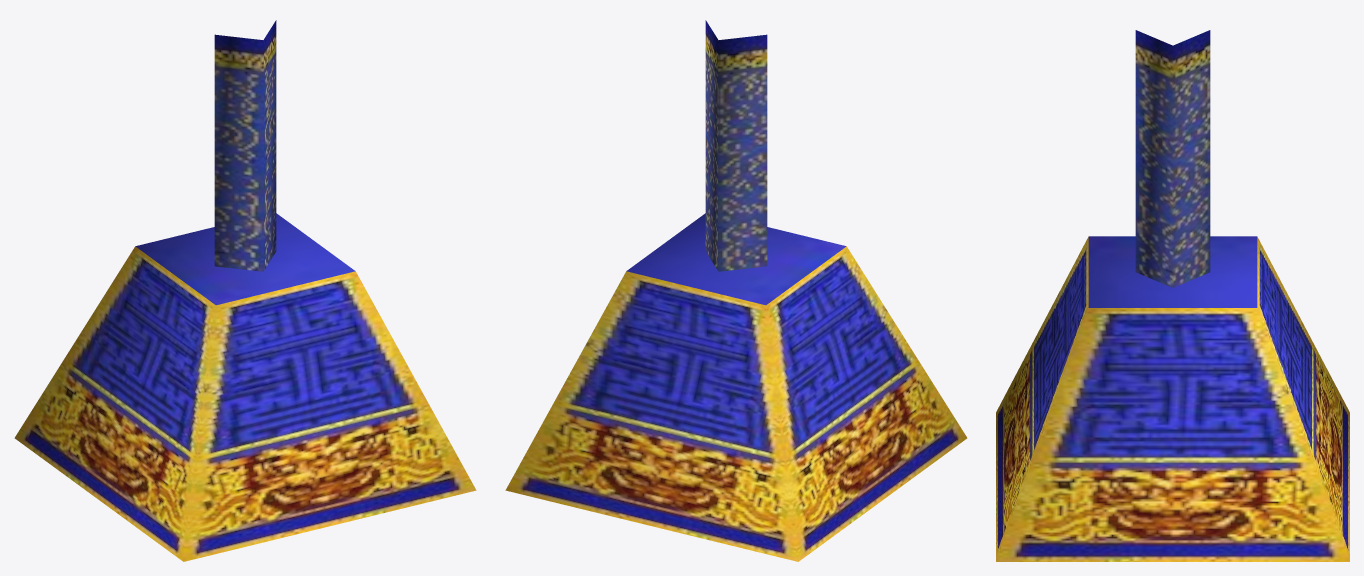
Rendered from flagpole_blue.glb.
3 views of the same model, side by side, from view 1: azimuth 30°, elevation 25°; view 2: azimuth 150°, elevation 25°; view 3: azimuth 270°, elevation 25° (orthographic). The views are drawn at different scales.
Visible parts, largest first — view 1: res\npc\npc\flagpole_blue.bsr; view 2: res\npc\npc\flagpole_blue.bsr; view 3: res\npc\npc\flagpole_blue.bsr.
Part boxes in pixels (x1=…): res\npc\npc\flagpole_blue.bsr: x1=14, y1=20, x2=476, y2=561; res\npc\npc\flagpole_blue.bsr: x1=505, y1=20, x2=967, y2=561; res\npc\npc\flagpole_blue.bsr: x1=996, y1=30, x2=1349, y2=561.
Bounding box in the file's own units: 5.57 × 7.95 × 5.57.
1 material, 1 textured.
